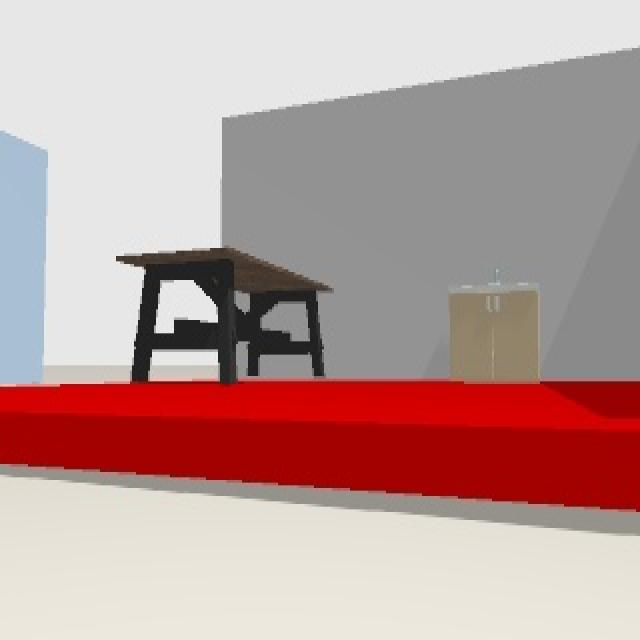dining: (118, 238, 332, 384)
